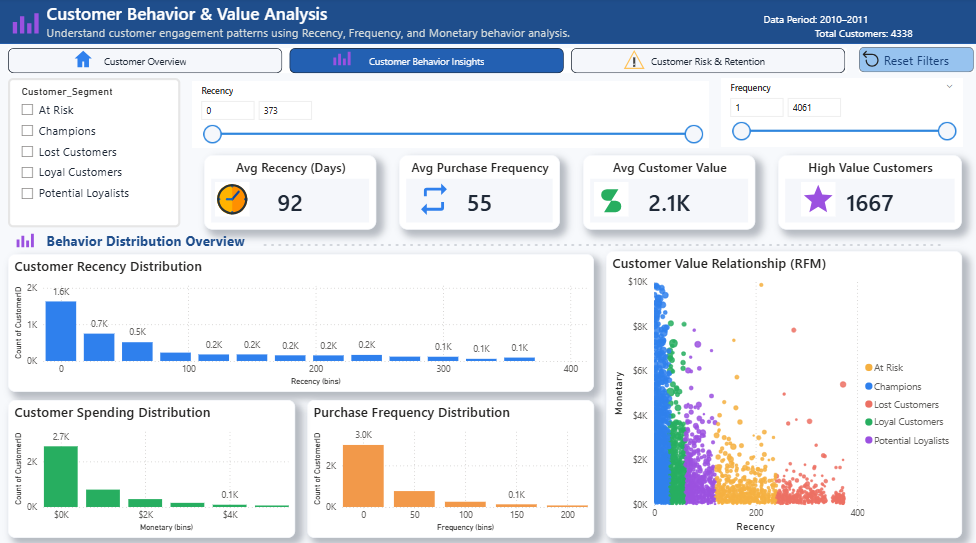

The dashboard page shown, as its layout file describes it:
{"tool":"powerbi","page":{"name":"Customer Behavior Insights","canvas":[1368,766],"ordinal":1},"visuals":[{"type":"shape","box":[0,0,1376,64],"z":0},{"type":"textbox","box":[64,0,768,64],"z":1000},{"type":"textbox","box":[1008,16,272,48],"z":2000},{"type":"slicer","fields":{"Values":["RFM_Base.Customer_Segment"]},"box":[16,112,240,208],"z":3000},{"type":"slicer","fields":{"Values":["RFM_Base.Recency"]},"box":[272,115,720,92],"z":4000},{"type":"slicer","fields":{"Values":["RFM_Base.Frequency"]},"box":[1008,112,336,96],"z":5000},{"type":"pageNavigator","box":[16,69,1168,35],"z":6000},{"type":"actionButton","box":[1200,68,160,35],"z":7000},{"type":"clusteredColumnChart","title":"Customer Recency Distribution","fields":{"Y":["CountNonNull(RFM_Base.CustomerID)"],"Category":["RFM_Base.Recency (bins)"]},"box":[16,357,816,192],"z":8000},{"type":"clusteredColumnChart","title":"Purchase Frequency Distribution","fields":{"Y":["CountNonNull(RFM_Base.CustomerID)"],"Category":["RFM_Base.Frequency (bins)"]},"box":[432,560,400,192],"z":9000},{"type":"clusteredColumnChart","title":"Customer Spending Distribution","fields":{"Y":["CountNonNull(RFM_Base.CustomerID)"],"Category":["RFM_Base.Monetary (bins)"]},"box":[16,560,400,192],"z":10000},{"type":"scatterChart","title":"Customer Value Relationship (RFM)","fields":{"X":["RFM_Base.Recency"],"Y":["RFM_Base.Monetary"],"Size":["Sum(RFM_Base.Frequency)"],"Series":["RFM_Base.Customer_Segment"]},"box":[848,352,496,400],"z":11000},{"type":"cardVisual","title":"Avg Recency (Days)","fields":{"Data":["Avg(RFM_Base.Recency)"]},"box":[288,218,240,104],"z":12000},{"type":"cardVisual","title":"Avg Purchase Frequency","fields":{"Data":["RFM_Base.Avg Frequency"]},"box":[560,218,224,104],"z":13000},{"type":"cardVisual","title":"Avg Customer Value","fields":{"Data":["RFM_Base.Avg Monetary"]},"box":[816,218,240,104],"z":14000},{"type":"cardVisual","title":"High Value Customers","fields":{"Data":["RFM_Base.High Value Customers"]},"box":[1088,218,256,104],"z":15000},{"type":"textbox","box":[64,320,1280,35],"z":16000},{"type":"image","box":[96,70,48,32],"z":17000},{"type":"image","box":[448,71,64,32],"z":18000},{"type":"image","box":[864,70,48,32],"z":19000},{"type":"image","box":[16,325,48,32],"z":20000},{"type":"image","box":[576,256,64,48],"z":21000},{"type":"image","box":[1120,256,48,48],"z":22000},{"type":"image","box":[832,256,48,48],"z":23000},{"type":"image","box":[304,256,48,48],"z":24000},{"type":"image","box":[0,16,80,48],"z":24001},{"type":"image","box":[1204,70,28,29],"z":24002}]}

Visuals, with their boxes in screenshot pixels (x1, y1, x2, y2), scaled from the page's 1368x766 canvas onto the 976x543 screenshot:
shape: region(0, 0, 975, 45)
textbox: region(46, 0, 594, 45)
textbox: region(719, 11, 913, 45)
slicer - RFM_Base.Customer_Segment: region(11, 79, 183, 227)
slicer - RFM_Base.Recency: region(194, 82, 708, 147)
slicer - RFM_Base.Frequency: region(719, 79, 959, 147)
pageNavigator: region(11, 49, 845, 74)
actionButton: region(856, 48, 970, 73)
"Customer Recency Distribution" clusteredColumnChart: region(11, 253, 594, 389)
"Purchase Frequency Distribution" clusteredColumnChart: region(308, 397, 594, 533)
"Customer Spending Distribution" clusteredColumnChart: region(11, 397, 297, 533)
"Customer Value Relationship (RFM)" scatterChart: region(605, 250, 959, 533)
"Avg Recency (Days)" cardVisual: region(205, 155, 377, 228)
"Avg Purchase Frequency" cardVisual: region(400, 155, 559, 228)
"Avg Customer Value" cardVisual: region(582, 155, 753, 228)
"High Value Customers" cardVisual: region(776, 155, 959, 228)
textbox: region(46, 227, 959, 252)
image: region(68, 50, 103, 72)
image: region(320, 50, 365, 73)
image: region(616, 50, 651, 72)
image: region(11, 230, 46, 253)
image: region(411, 181, 457, 215)
image: region(799, 181, 833, 215)
image: region(594, 181, 628, 215)
image: region(217, 181, 251, 215)
image: region(0, 11, 57, 45)
image: region(859, 50, 879, 70)
